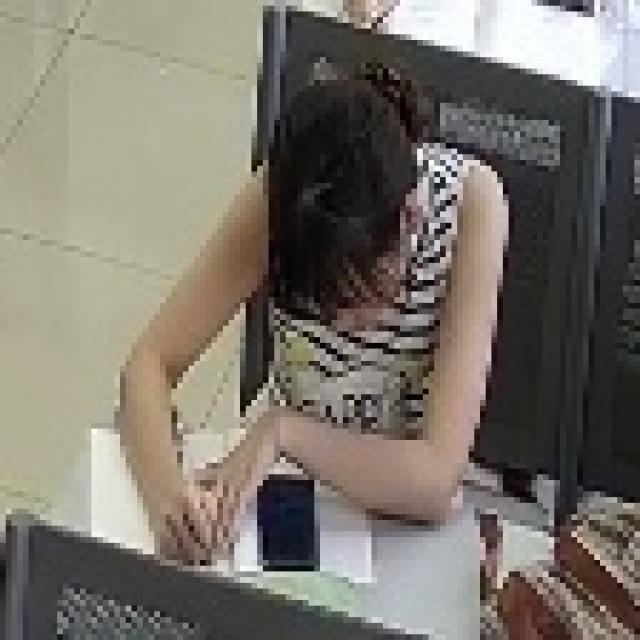phone: (154, 86, 492, 581)
